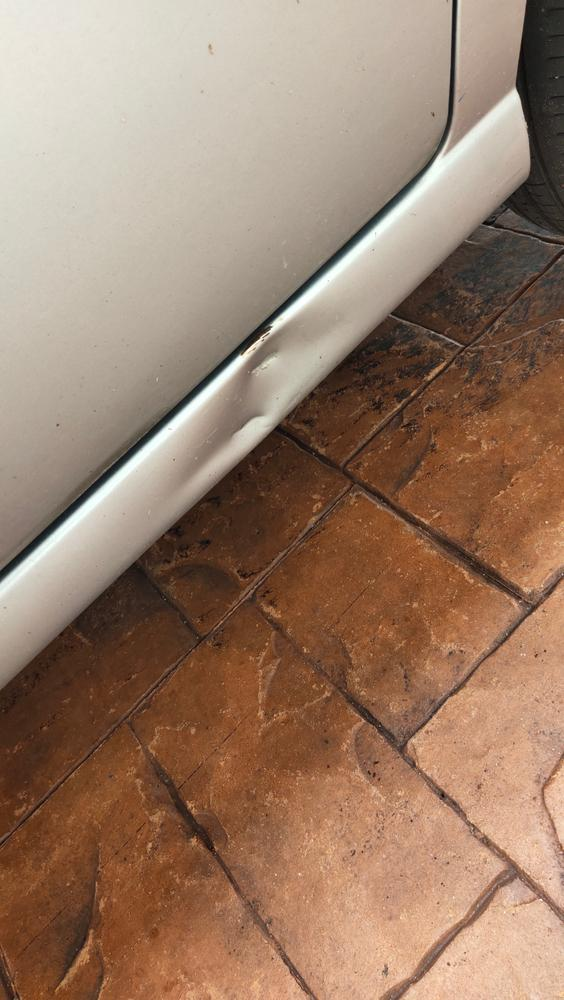dent: (173, 313, 349, 497)
